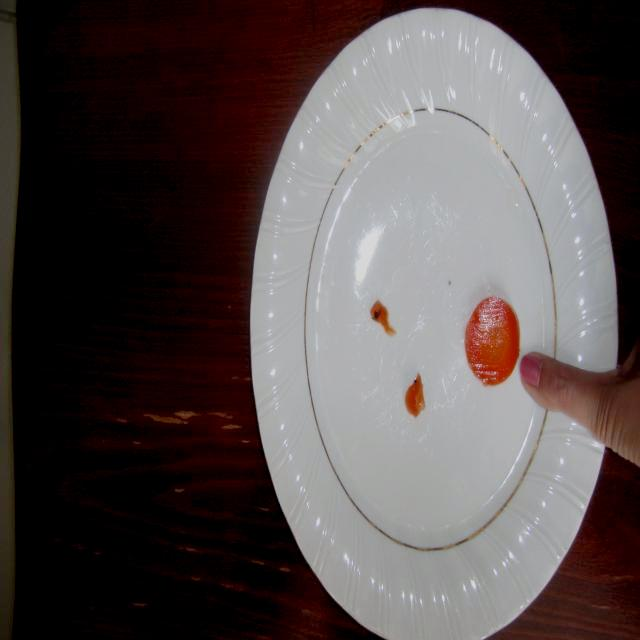Carrot: (457, 288, 522, 396)
Finger: (516, 349, 574, 417)
